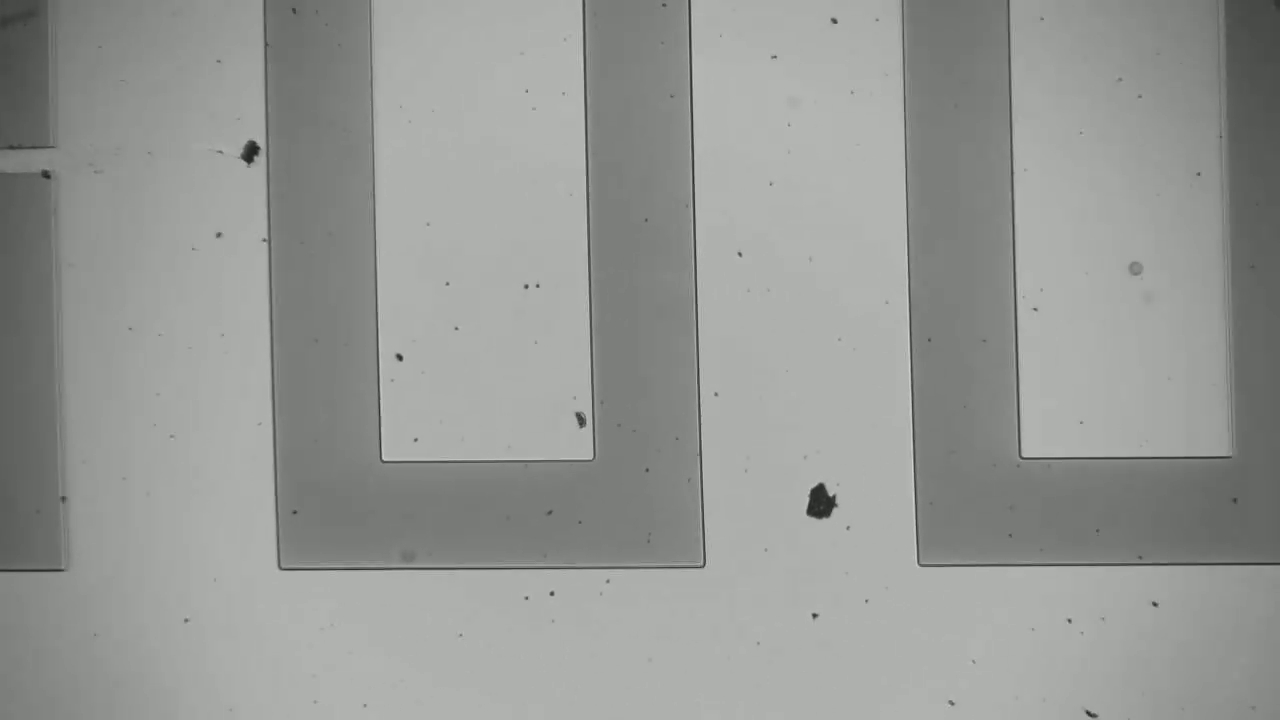Short_circuit: (1, 123, 82, 194)
